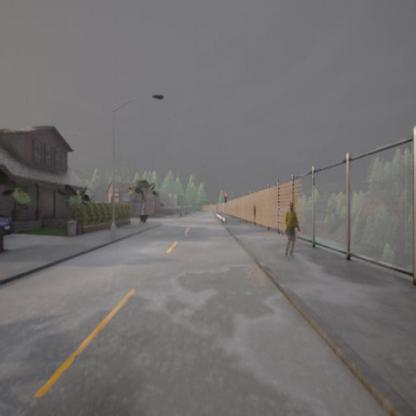person: (282, 204, 301, 258)
